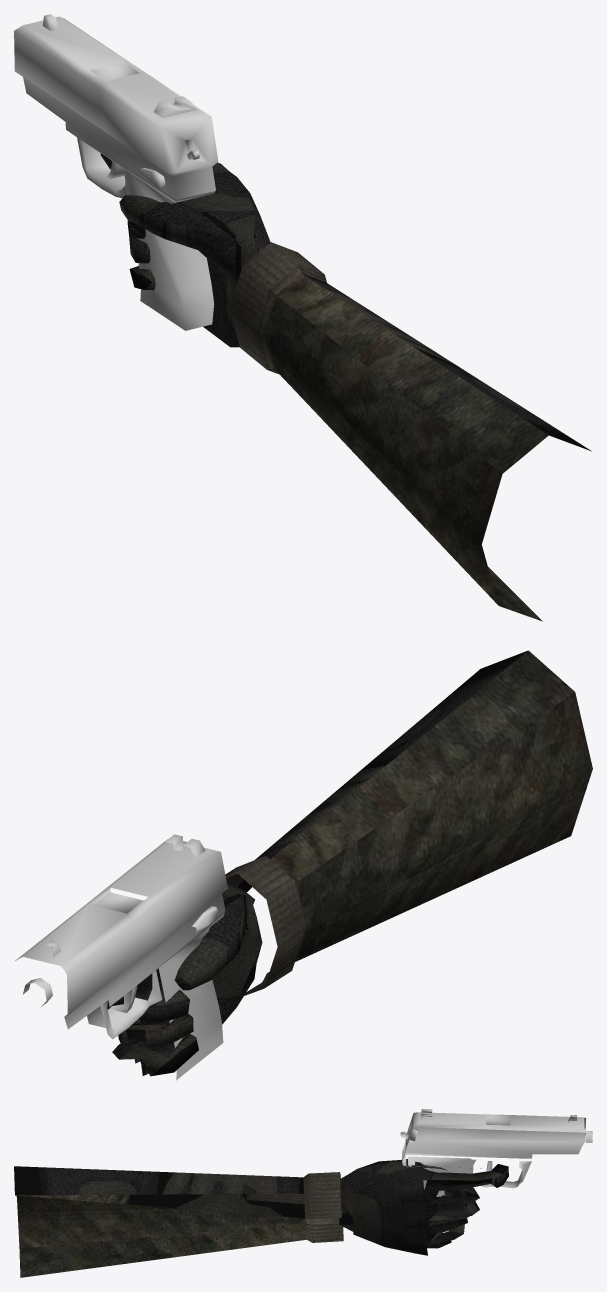
File: PistolModel.fbx
3 views of the same model, one above another, from view 1: azimuth 30°, elevation 25°; view 2: azimuth 150°, elevation 25°; view 3: azimuth 270°, elevation 25° (orthographic). The views are drawn at different scales.
Parts seen in each view (by area): view 1: Object.001, Object; view 2: Object.001, Object; view 3: Object.001, Object.
Part boxes in pixels (x1=…): Object.001: x1=100, y1=153, x2=591, y2=621; Object: x1=14, y1=14, x2=218, y2=330; Object.001: x1=107, y1=650, x2=592, y2=1076; Object: x1=14, y1=834, x2=227, y2=1080; Object.001: x1=14, y1=1159, x2=508, y2=1277; Object: x1=400, y1=1109, x2=592, y2=1231.
Size of the model in its own units: 3.58 by 8.48 by 27.98.
